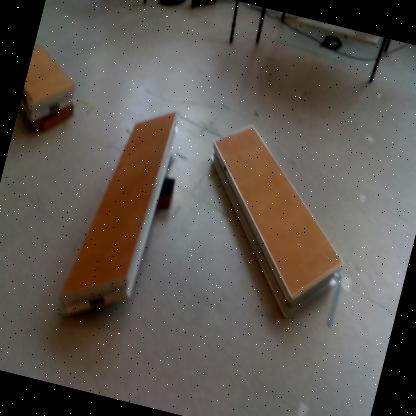Stairs: (211, 126, 345, 321), (60, 111, 179, 318), (21, 46, 76, 124)
